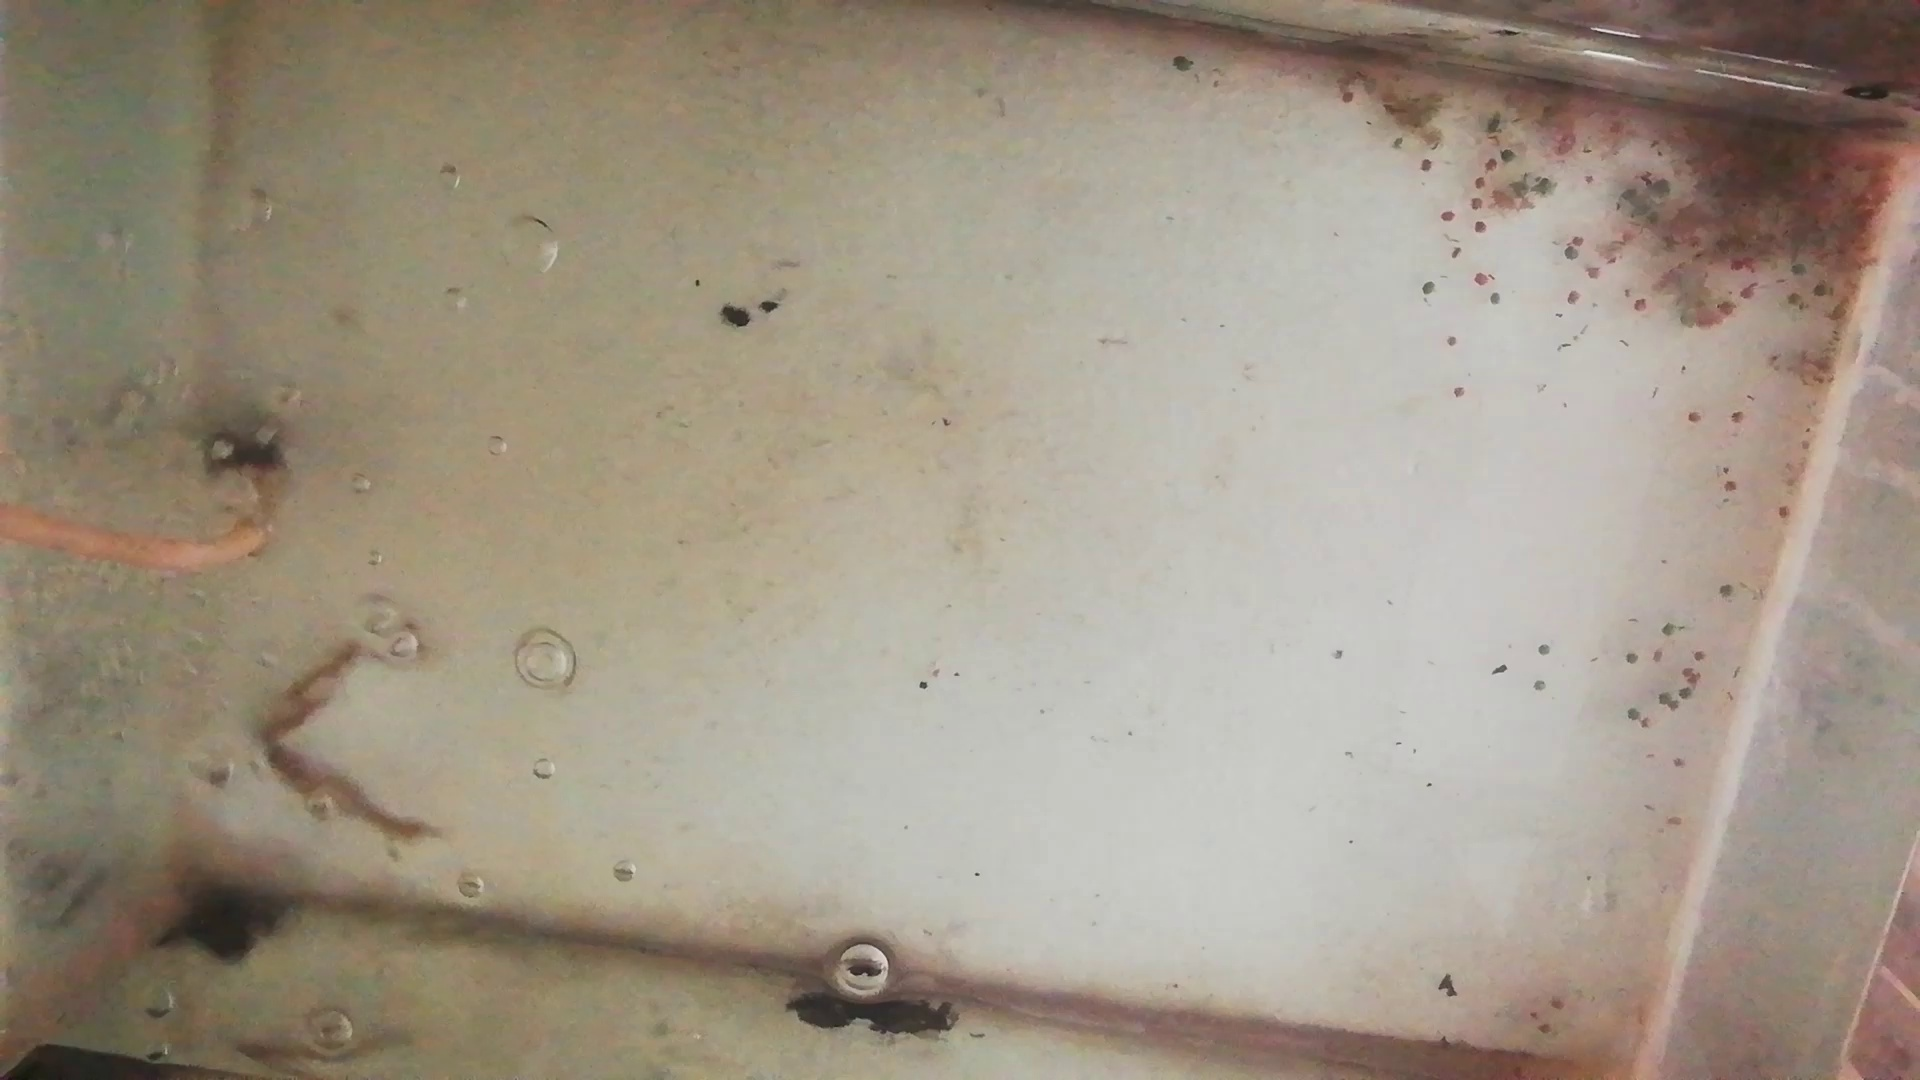fish: (255, 736, 440, 841), (256, 622, 373, 736)
